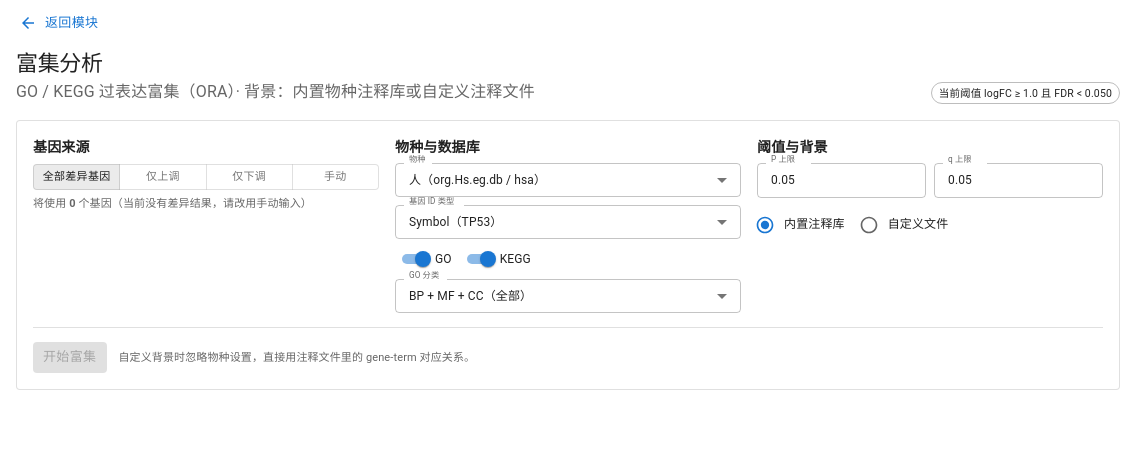
Test case: EnrichPage 物种 / 背景联动 › 水稻 + 自定义文件仍然可用（客户可能还有别的注释版本）
Step 1. Select "水稻（内置 GO Slim / 可自定义）" in the dropdown labelled "物种" → (568, 180), box [395, 163, 741, 198]
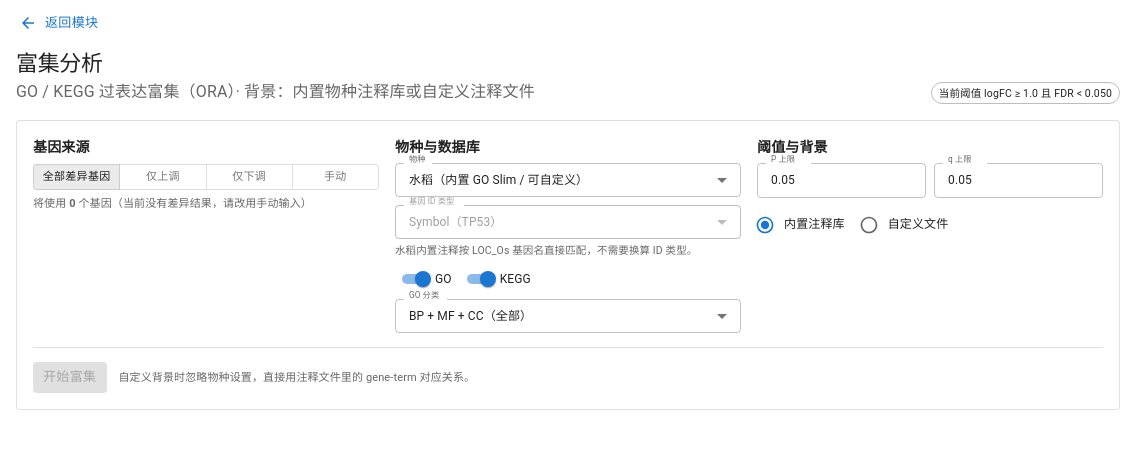
Step 2. Click the radio button labelled "自定义文件" → (904, 225), box [859, 215, 948, 235]
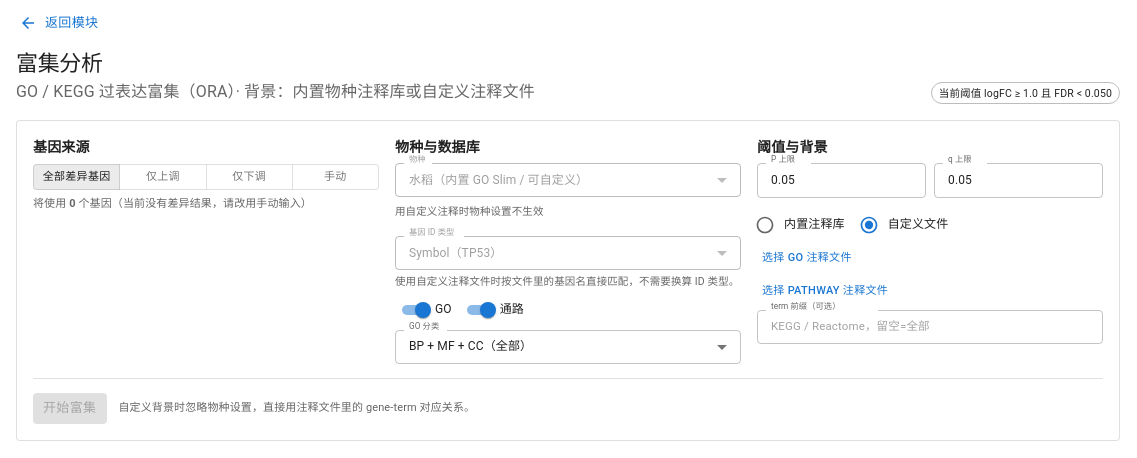
Now the radio button labelled "自定义文件" is checked, box [859, 215, 948, 235]
Now the button "选择 GO 注释文件" is shown, box [757, 244, 1103, 271]
Now the dropdown labelled "物种" is disabled, box [395, 163, 741, 198]
